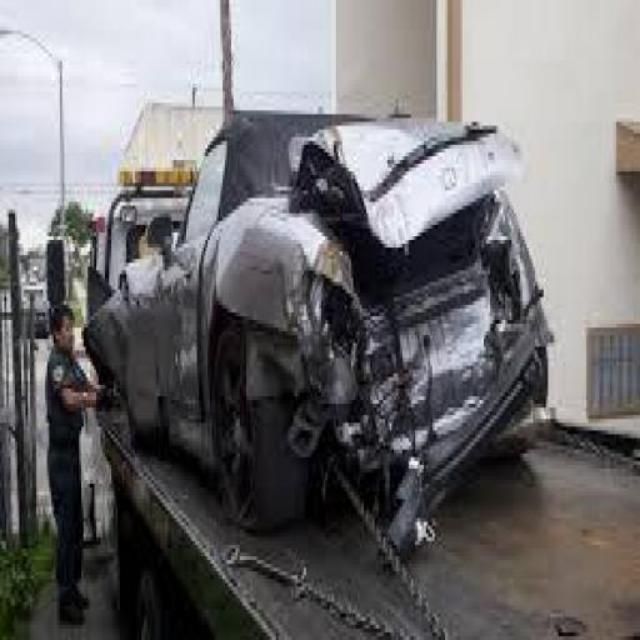crash: (210, 122, 548, 557)
